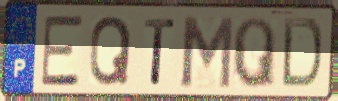D: (279, 16, 324, 92)
E: (40, 13, 84, 88)
M: (180, 14, 236, 91)
Q: (87, 14, 134, 89), (231, 15, 277, 90)
T: (143, 16, 177, 88)
